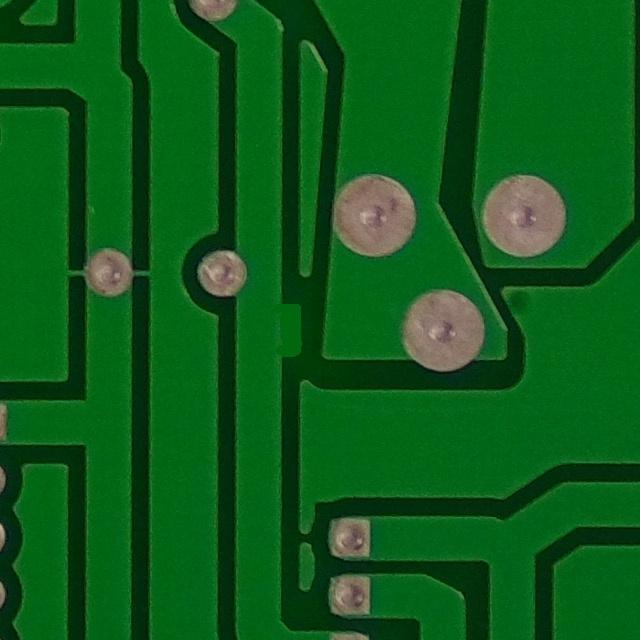spur: (257, 288, 313, 379)
